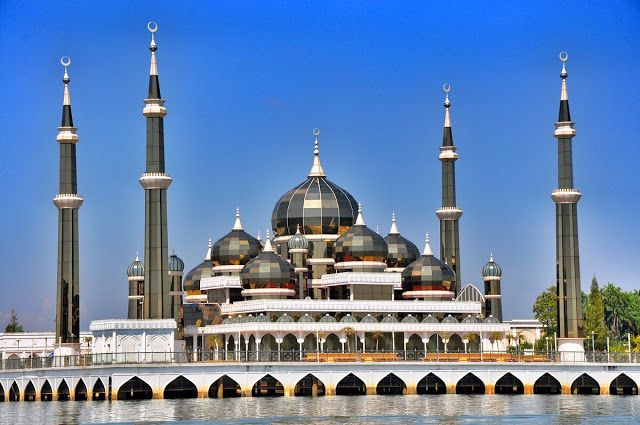Mosque: (30, 21, 592, 375)
